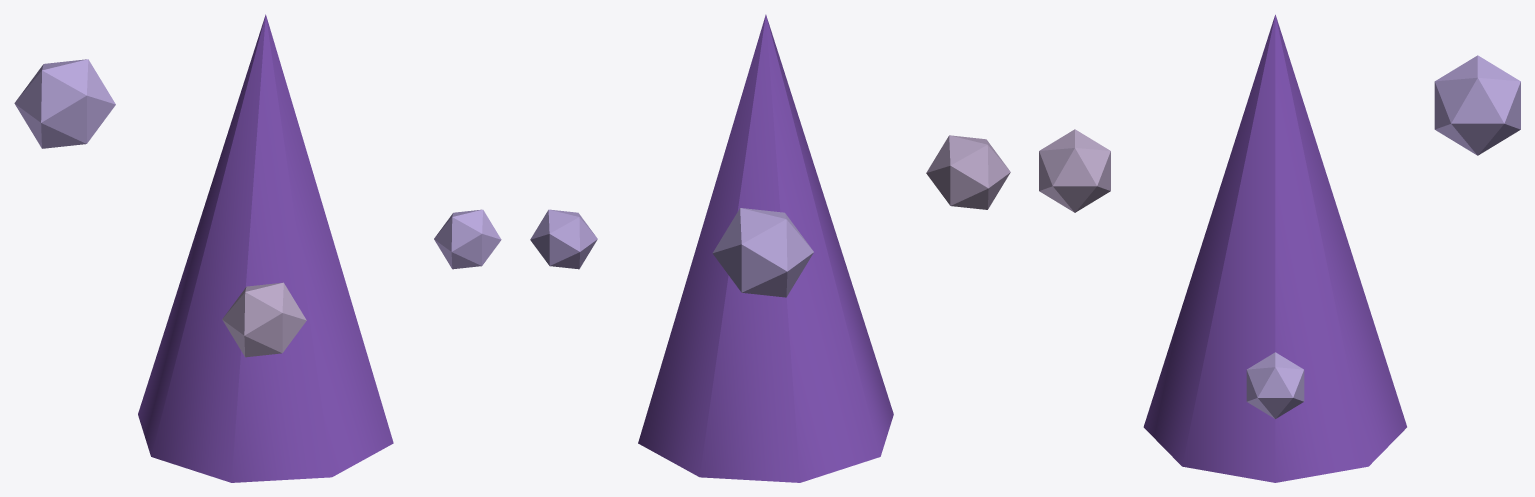
File: landmark.glb
3 renders of one model, left to right at view 1: azimuth 30°, elevation 25°; view 2: azimuth 150°, elevation 25°; view 3: azimuth 270°, elevation 25°, orthographic.
Visible parts, largest first — view 1: landmark_core_2, landmark_orbit_2, landmark_orbit_1, landmark_orbit_0; view 2: landmark_core_2, landmark_orbit_2, landmark_orbit_1, landmark_orbit_0; view 3: landmark_core_2, landmark_orbit_2, landmark_orbit_1, landmark_orbit_0.
Part boxes in pixels (x1,y1,x2,y2): landmark_core_2: [138, 14, 393, 482]; landmark_orbit_2: [14, 59, 115, 148]; landmark_orbit_1: [222, 282, 306, 357]; landmark_orbit_0: [434, 209, 501, 269]; landmark_core_2: [638, 14, 893, 482]; landmark_orbit_2: [712, 208, 813, 297]; landmark_orbit_1: [926, 135, 1010, 209]; landmark_orbit_0: [530, 209, 597, 269]; landmark_core_2: [1143, 14, 1406, 482]; landmark_orbit_2: [1434, 55, 1520, 155]; landmark_orbit_1: [1039, 129, 1110, 212]; landmark_orbit_0: [1246, 352, 1304, 418].
Size of what is drawn, in the model's own units: 3.96 by 4.32 by 4.57.
